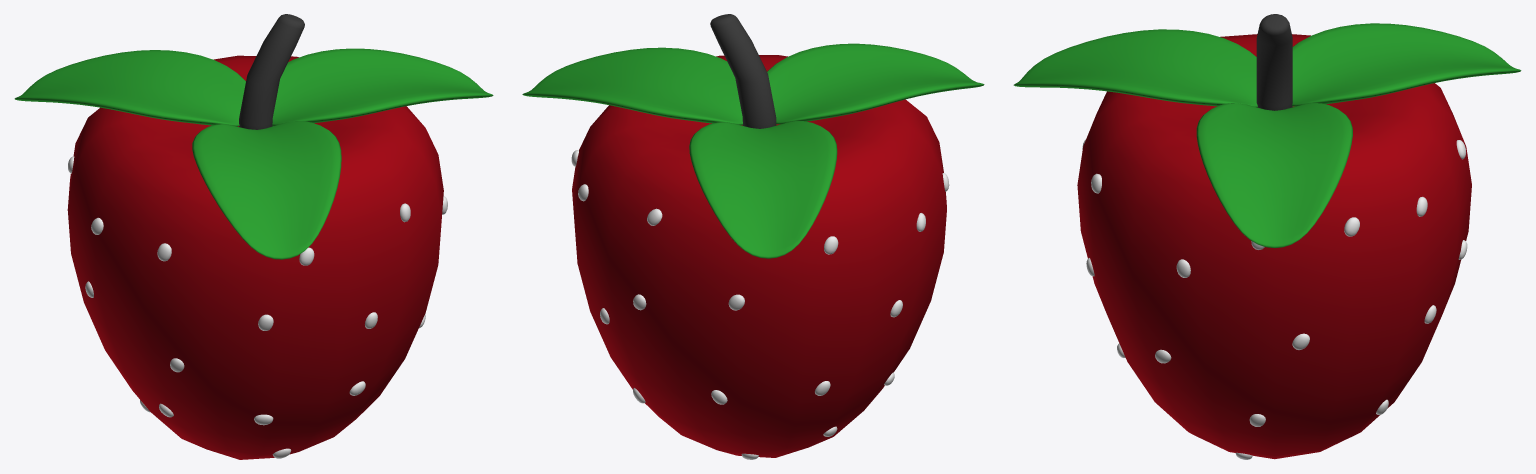
The model's file is Strawberry.fbx.
3 renders of one model, left to right at view 1: azimuth 30°, elevation 25°; view 2: azimuth 150°, elevation 25°; view 3: azimuth 270°, elevation 25°, orthographic. The views are drawn at different scales.
Visible parts, largest first — view 1: Strawberry; view 2: Strawberry; view 3: Strawberry.
Part boxes in pixels (x1=…): Strawberry: x1=14, y1=14, x2=493, y2=459; Strawberry: x1=522, y1=14, x2=984, y2=459; Strawberry: x1=1013, y1=14, x2=1521, y2=459.
Bounding box in the file's own units: 0.7563 × 0.8002 × 0.7774.
